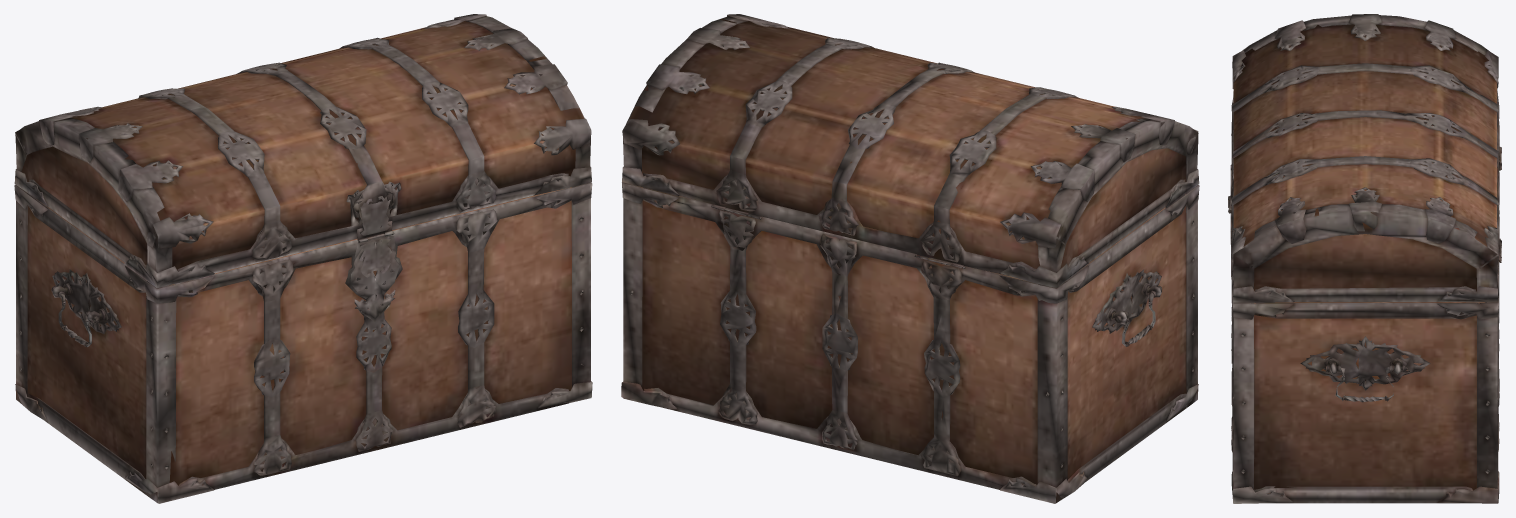
The model's file is treasure_chest.glb.
3 renders of one model, left to right at view 1: azimuth 30°, elevation 25°; view 2: azimuth 150°, elevation 25°; view 3: azimuth 270°, elevation 25°, orthographic. The views are drawn at different scales.
Visible parts, largest first — view 1: treasure_chest_bottom; view 2: treasure_chest_bottom; view 3: treasure_chest_bottom.
Boxes of the visible parts, x1=… form: treasure_chest_bottom: x1=14, y1=14, x2=592, y2=503; treasure_chest_bottom: x1=621, y1=14, x2=1199, y2=503; treasure_chest_bottom: x1=1228, y1=14, x2=1501, y2=503.
Bounding box in the file's own units: 0.959 × 0.6166 × 0.5223.
Materials: 1 (1 with a texture image).
